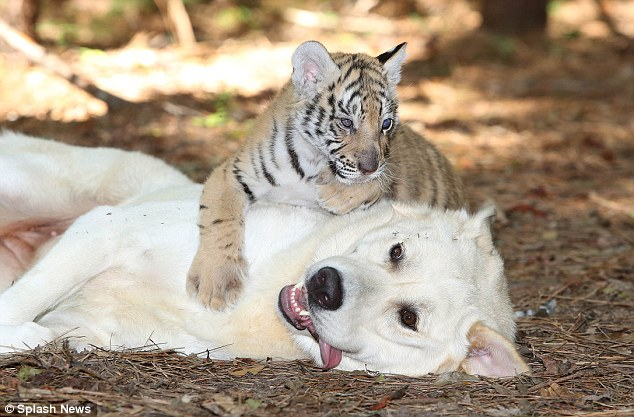dog: (1, 143, 521, 368)
tiger: (191, 47, 482, 300)
